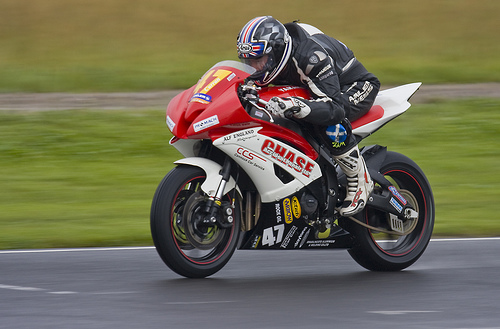helmet: (231, 6, 295, 83)
